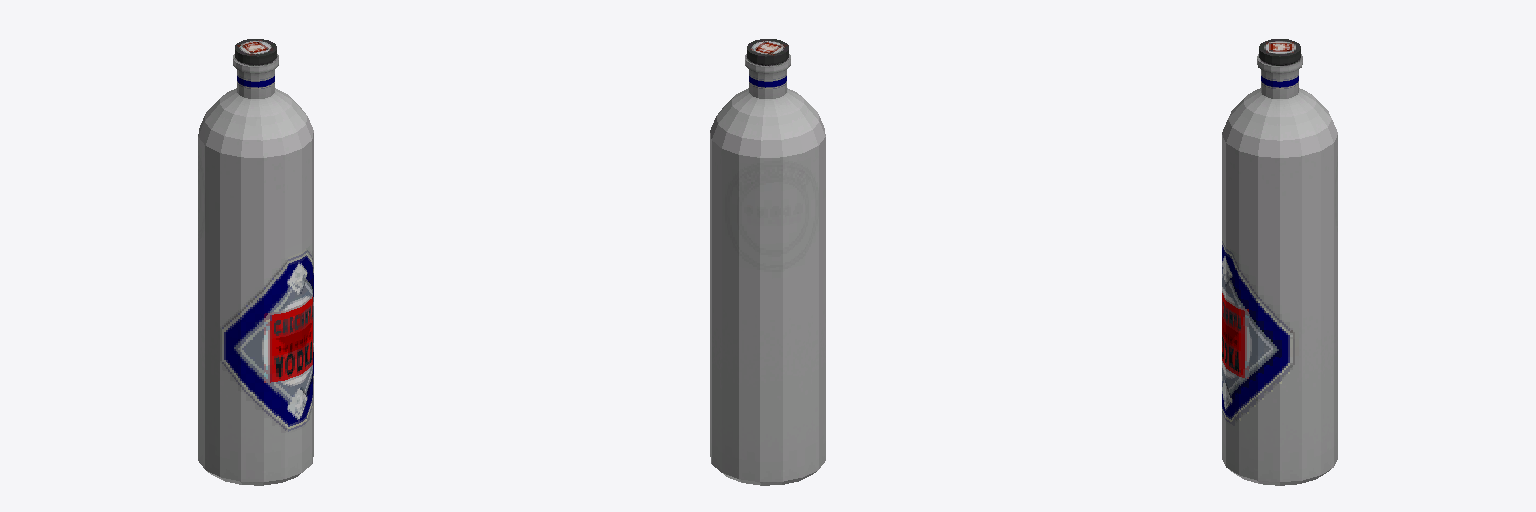
The picture shows the model from 3 angles: view 1: azimuth 30°, elevation 25°; view 2: azimuth 150°, elevation 25°; view 3: azimuth 270°, elevation 25°; orthographic projection.
Parts seen in each view (by area): view 1: Vodka; view 2: Vodka; view 3: Vodka.
Part boxes in pixels (x1,y1,x2,y2): Vodka: (198, 39, 313, 485); Vodka: (710, 39, 825, 485); Vodka: (1222, 39, 1337, 485).
Bounding box in the file's own units: 11.2 × 44.09 × 11.2.
1 materials, 1 textured.